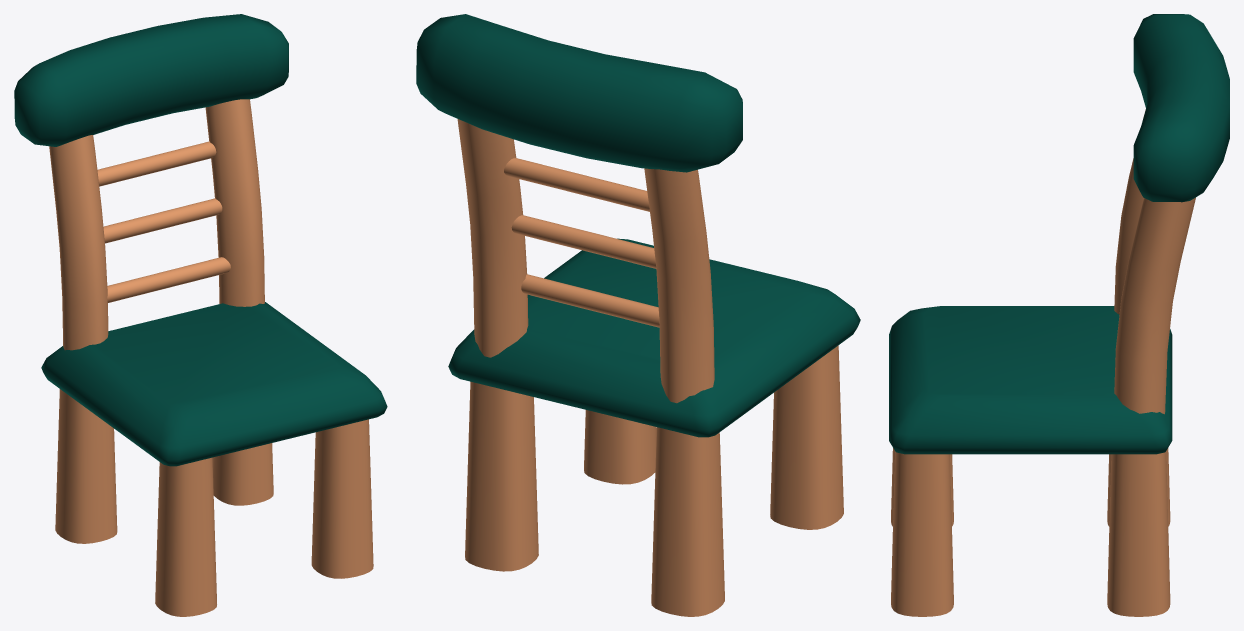
Rendered from chairCC.glb.
3 renders of one model, left to right at view 1: azimuth 30°, elevation 25°; view 2: azimuth 150°, elevation 25°; view 3: azimuth 270°, elevation 25°, orthographic. The views are drawn at different scales.
Parts seen in each view (by area): view 1: chairCC; view 2: chairCC; view 3: chairCC.
Part boxes in pixels (<box>): chairCC: <box>14,14,387,616</box>; chairCC: <box>416,14,860,616</box>; chairCC: <box>889,14,1229,616</box>.
Bounding box in the file's own units: 0.8508 × 1.43 × 0.8926.
Materials: 1 (1 with a texture image).
